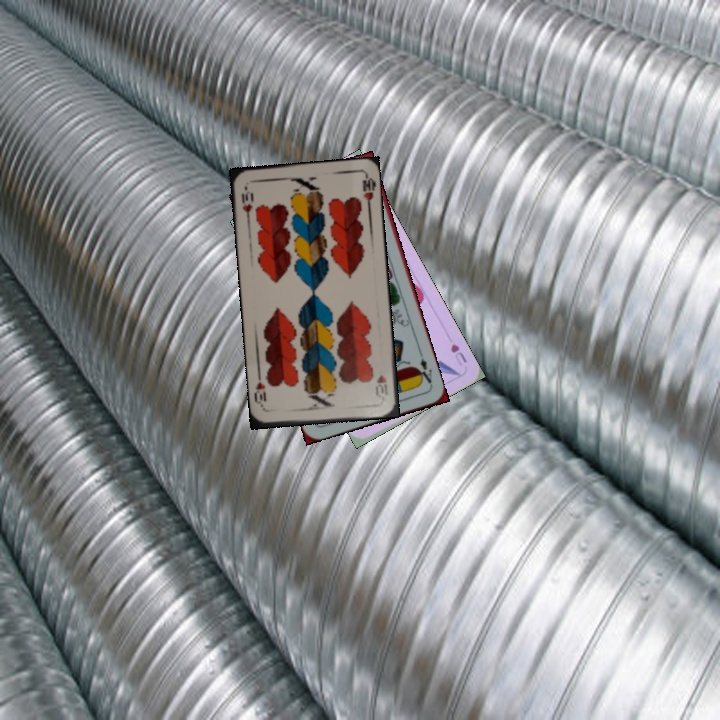EA: (413, 349, 435, 389)
H10: (237, 183, 256, 223), (372, 371, 391, 401)
HU: (446, 340, 469, 368)
